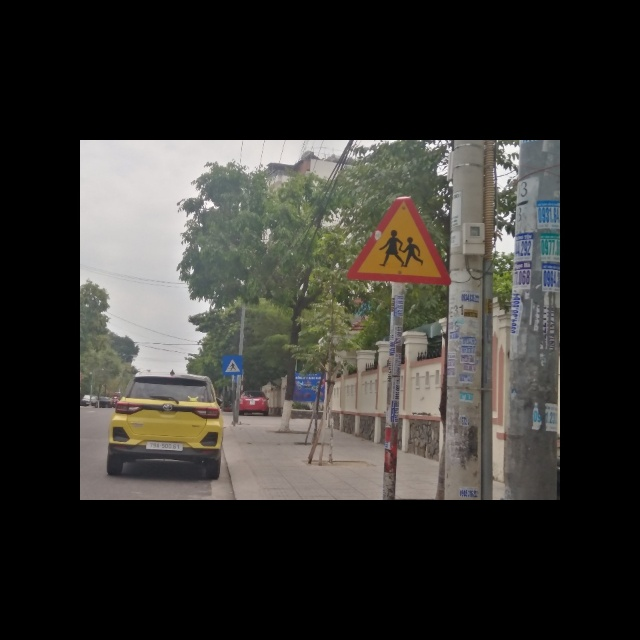Trẻ em ngang qua: (347, 193, 453, 284)
Đường dành cho người đi bộ: (221, 353, 243, 376)
